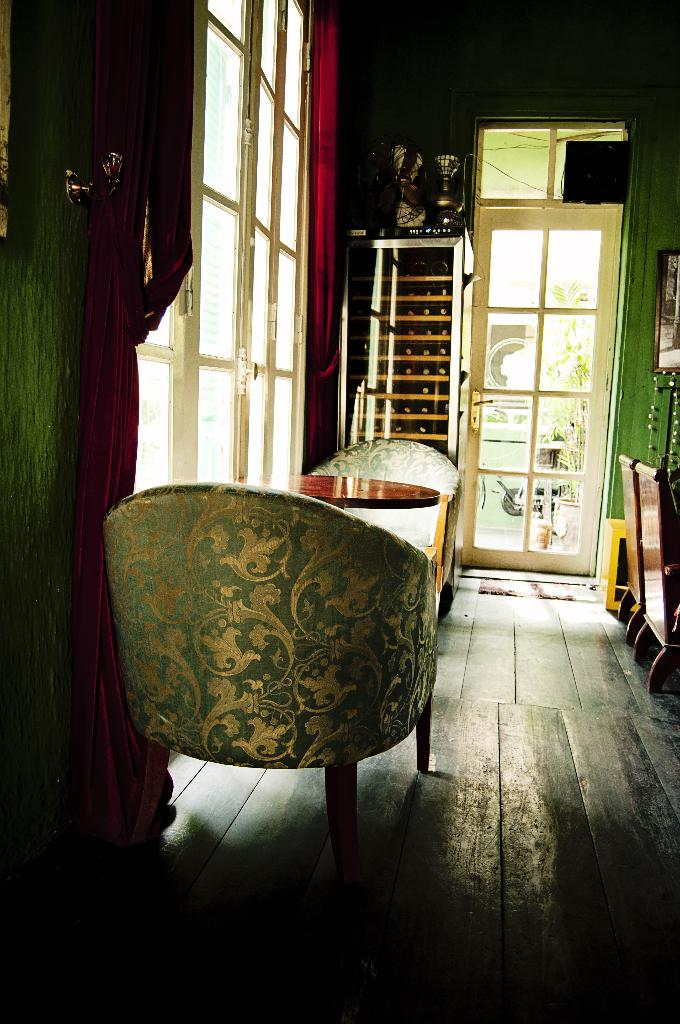Door: (480, 136, 630, 648)
